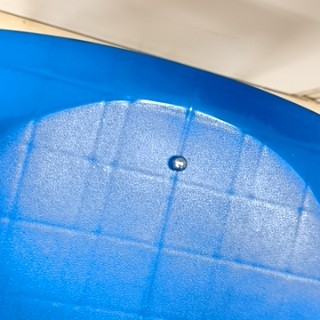ironball: (162, 150, 190, 173)
